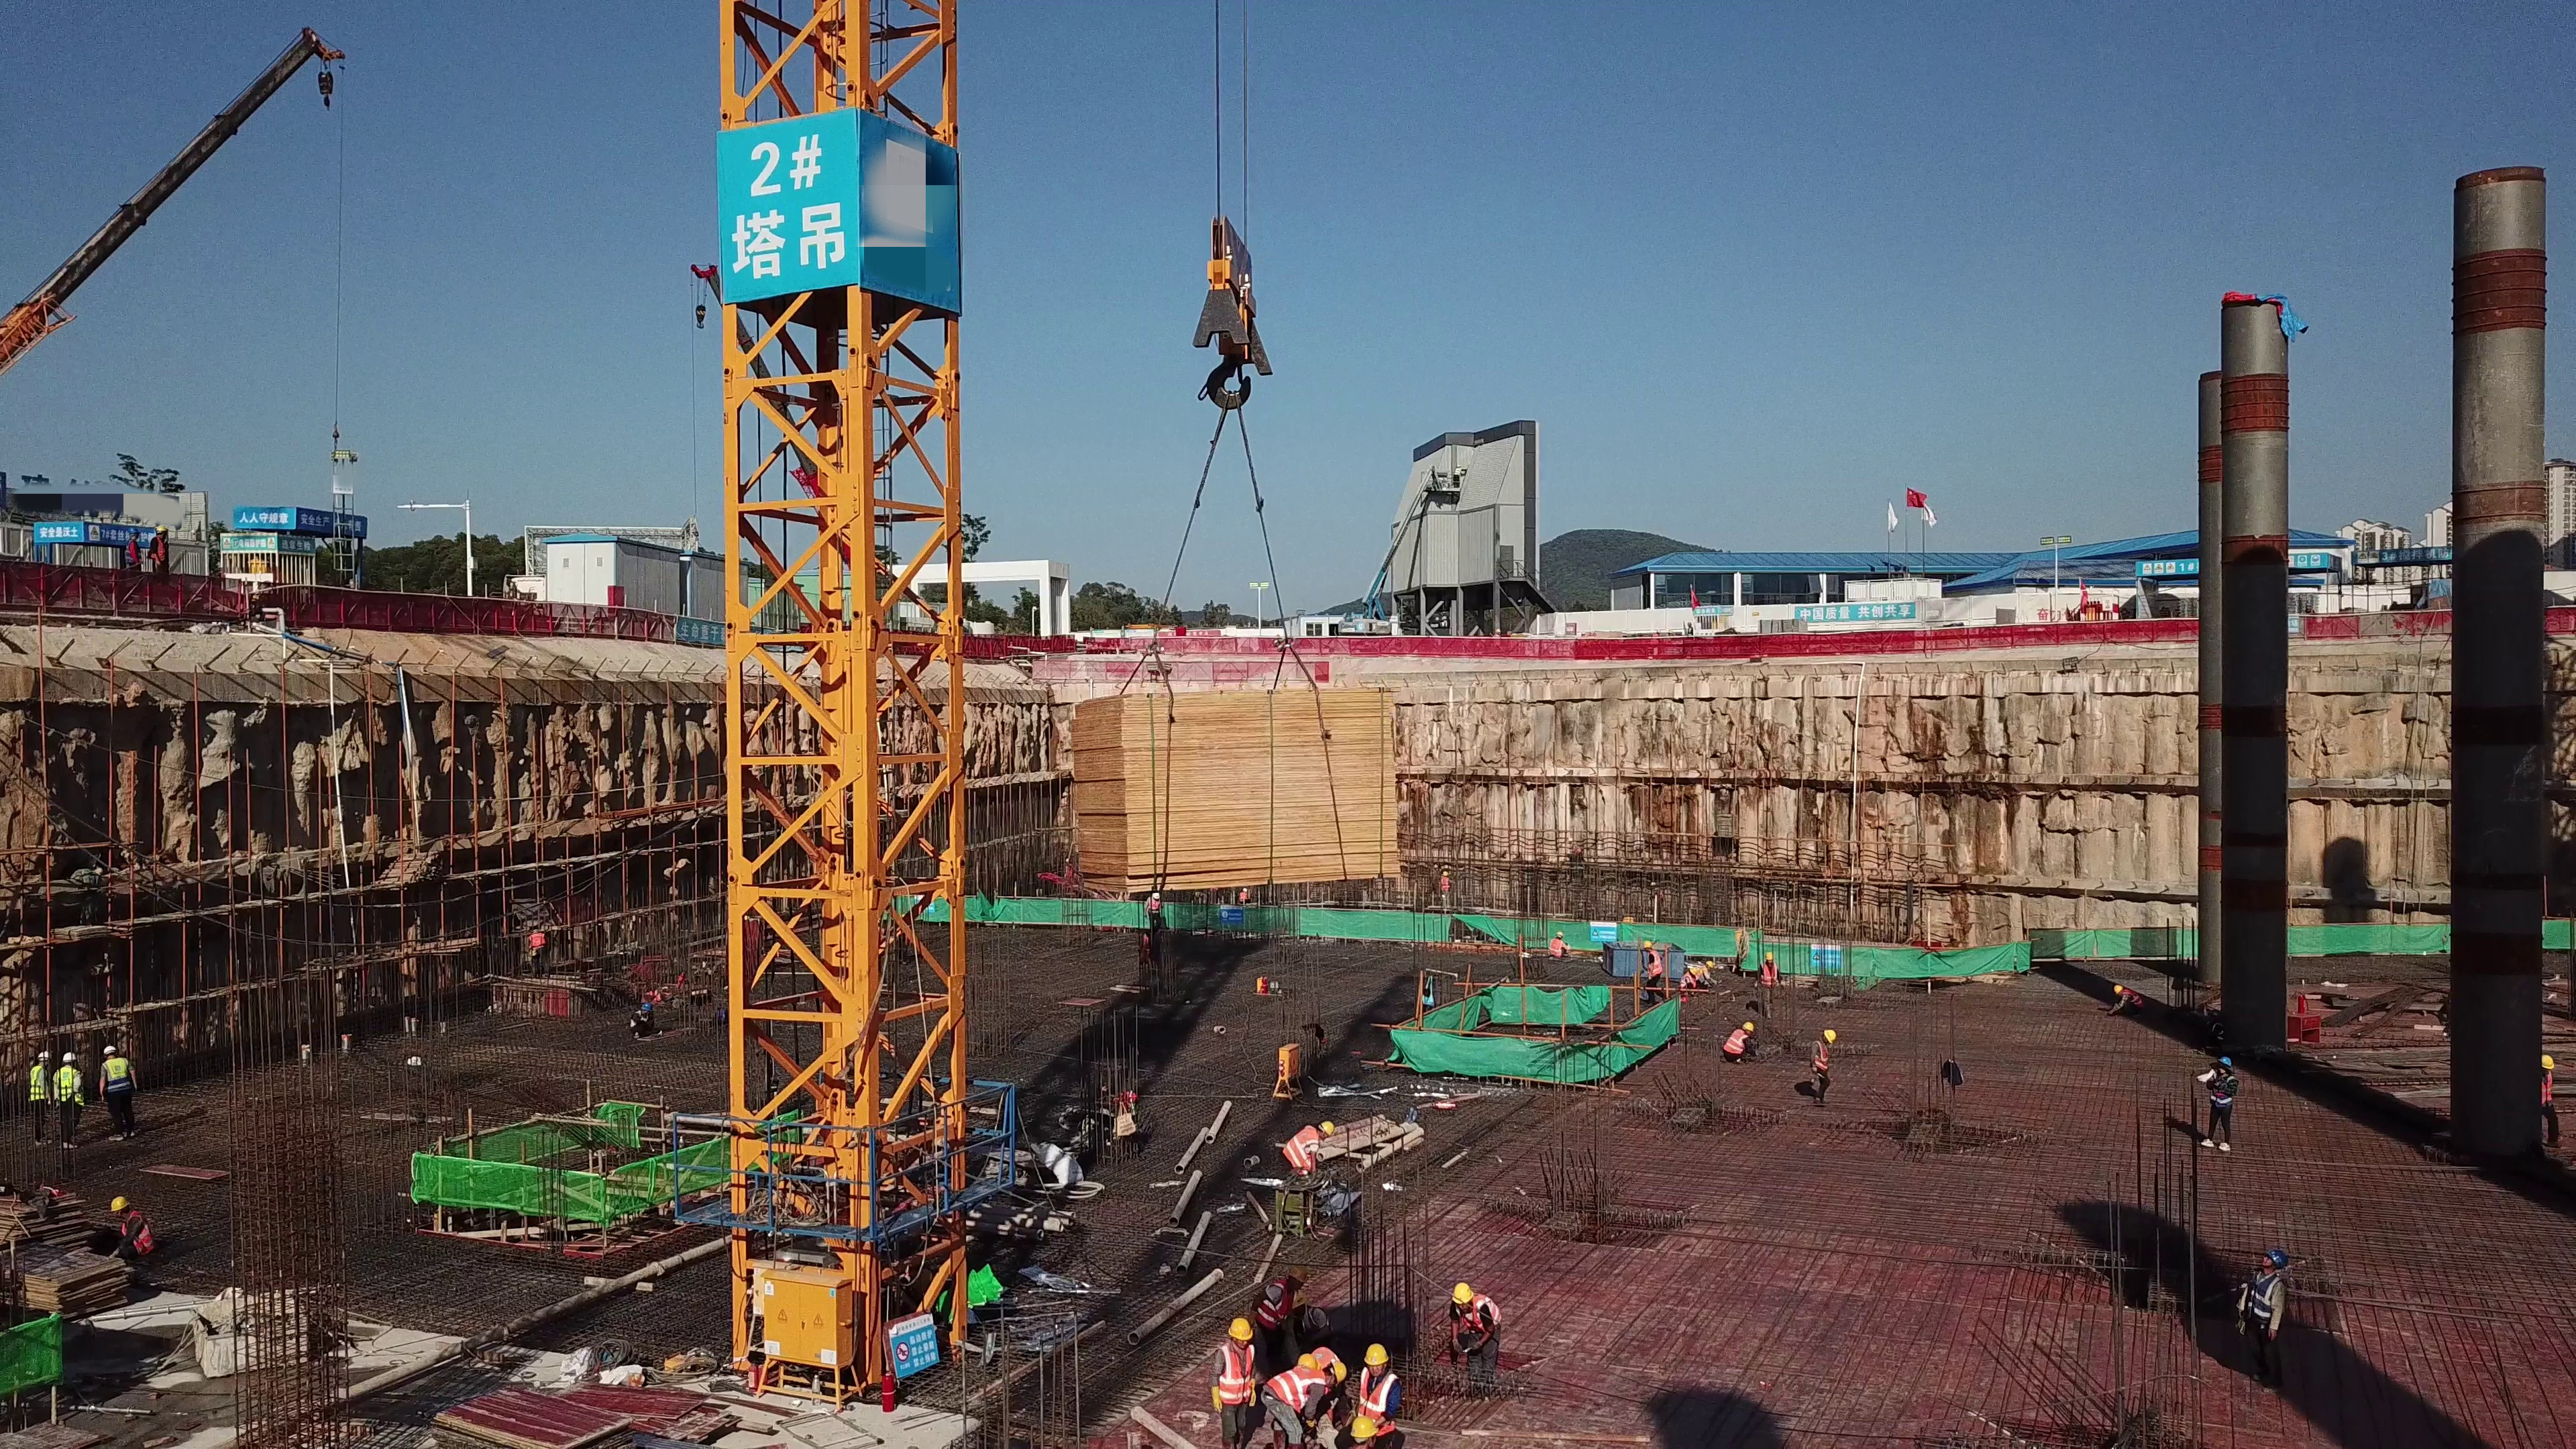helmet: (1228, 1317, 1252, 1342), (1351, 1416, 1383, 1436), (1362, 1346, 1391, 1364), (1449, 1285, 1475, 1301), (1309, 1309, 1330, 1331), (109, 1194, 131, 1212), (1297, 1353, 1318, 1371), (2262, 1248, 2286, 1265), (1289, 1265, 1307, 1282), (1332, 1362, 1348, 1383), (1320, 1120, 1334, 1137), (2535, 1054, 2554, 1068), (1825, 1028, 1837, 1047), (100, 1045, 118, 1055), (36, 1051, 52, 1060), (61, 1051, 76, 1062), (2216, 1055, 2231, 1065), (640, 1002, 653, 1012), (1741, 1022, 1754, 1031), (2110, 985, 2124, 995), (1150, 893, 1163, 901), (1706, 961, 1714, 970), (1690, 967, 1700, 976), (154, 525, 168, 531), (1764, 951, 1775, 959), (1440, 870, 1450, 877), (1554, 930, 1564, 937), (1643, 941, 1651, 950), (128, 527, 139, 533), (1242, 888, 1248, 893), (530, 928, 539, 931)
person: (1265, 1342, 1350, 1449), (1446, 1276, 1502, 1390), (1213, 1309, 1260, 1449), (2245, 1248, 2290, 1389), (1278, 1114, 1335, 1216), (92, 1035, 144, 1146), (105, 1189, 164, 1276), (1252, 1260, 1306, 1350), (2203, 1052, 2242, 1160), (54, 1050, 92, 1161), (2528, 1045, 2566, 1156), (1358, 1340, 1403, 1416), (1749, 949, 1784, 1024), (1806, 1024, 1835, 1109), (1283, 1303, 1334, 1348), (27, 1049, 50, 1149), (2102, 978, 2151, 1020), (625, 1000, 664, 1051), (147, 519, 180, 575), (1678, 957, 1719, 1000), (1718, 1020, 1756, 1065), (1640, 940, 1667, 1004), (1137, 892, 1168, 944), (1346, 1413, 1385, 1449), (1435, 865, 1465, 909), (525, 924, 549, 977), (1547, 928, 1578, 963), (123, 525, 144, 569), (1234, 886, 1256, 904), (1683, 617, 1695, 639)
vest: (2248, 1274, 2288, 1328), (1269, 1368, 1326, 1403), (1223, 1340, 1255, 1402), (1361, 1367, 1395, 1421), (1283, 1129, 1322, 1169), (1455, 1300, 1500, 1333), (1262, 1280, 1291, 1326), (125, 1214, 154, 1259), (2213, 1070, 2237, 1108), (104, 1059, 129, 1089), (57, 1066, 79, 1098), (29, 1066, 48, 1100), (1810, 1042, 1829, 1075), (2536, 1073, 2557, 1104), (1723, 1032, 1747, 1055), (1758, 960, 1778, 986), (151, 537, 167, 563), (629, 1012, 651, 1028), (2127, 985, 2145, 1005), (1550, 939, 1566, 961), (529, 932, 545, 952), (1650, 951, 1660, 979), (1146, 898, 1162, 916), (125, 541, 140, 561), (1681, 975, 1695, 986), (1440, 877, 1449, 891), (1240, 892, 1250, 902)
